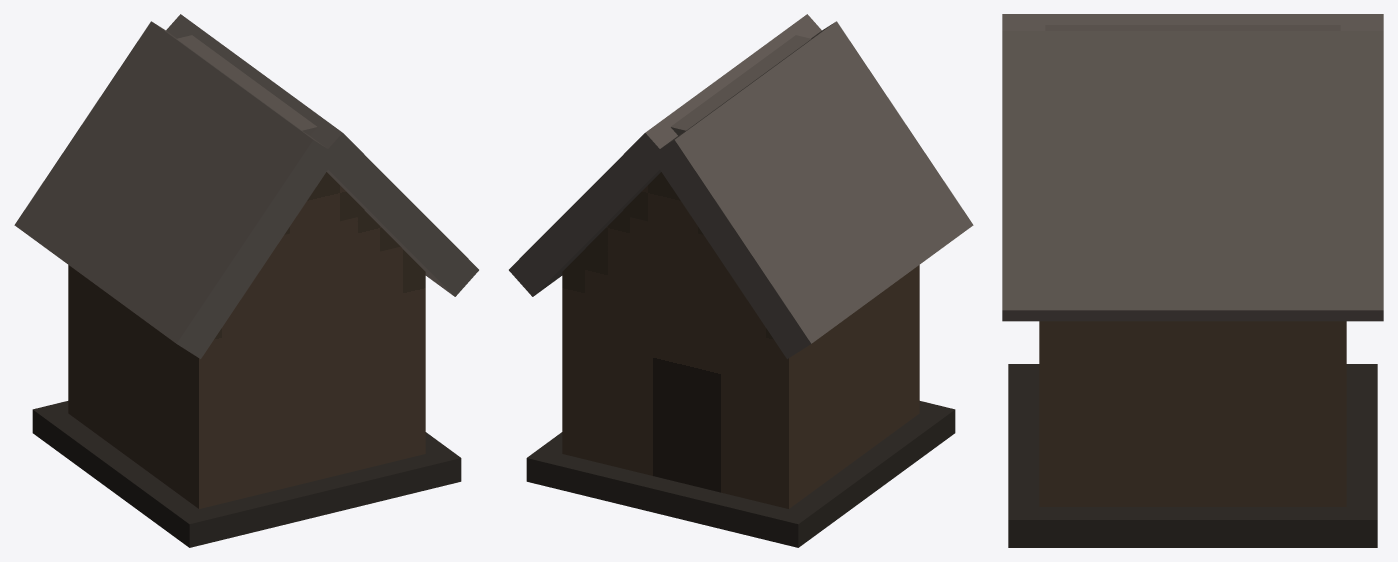
The model's file is house.gltf.
The picture shows the model from 3 angles, left to right: view 1: azimuth 30°, elevation 25°; view 2: azimuth 150°, elevation 25°; view 3: azimuth 270°, elevation 25°; orthographic projection. The views are drawn at different scales.
Parts seen in each view (by area): view 1: cube (×7); view 2: cube (×7); view 3: cube (×5).
Boxes of the visible parts, box(x1,y1,x2,y2) form: cube (×7): box(14, 14, 478, 547); cube (×7): box(509, 14, 973, 547); cube (×5): box(1002, 14, 1383, 547).
Bounding box in the file's own units: 0.8363 × 1 × 0.775.
1 material, 1 textured.
